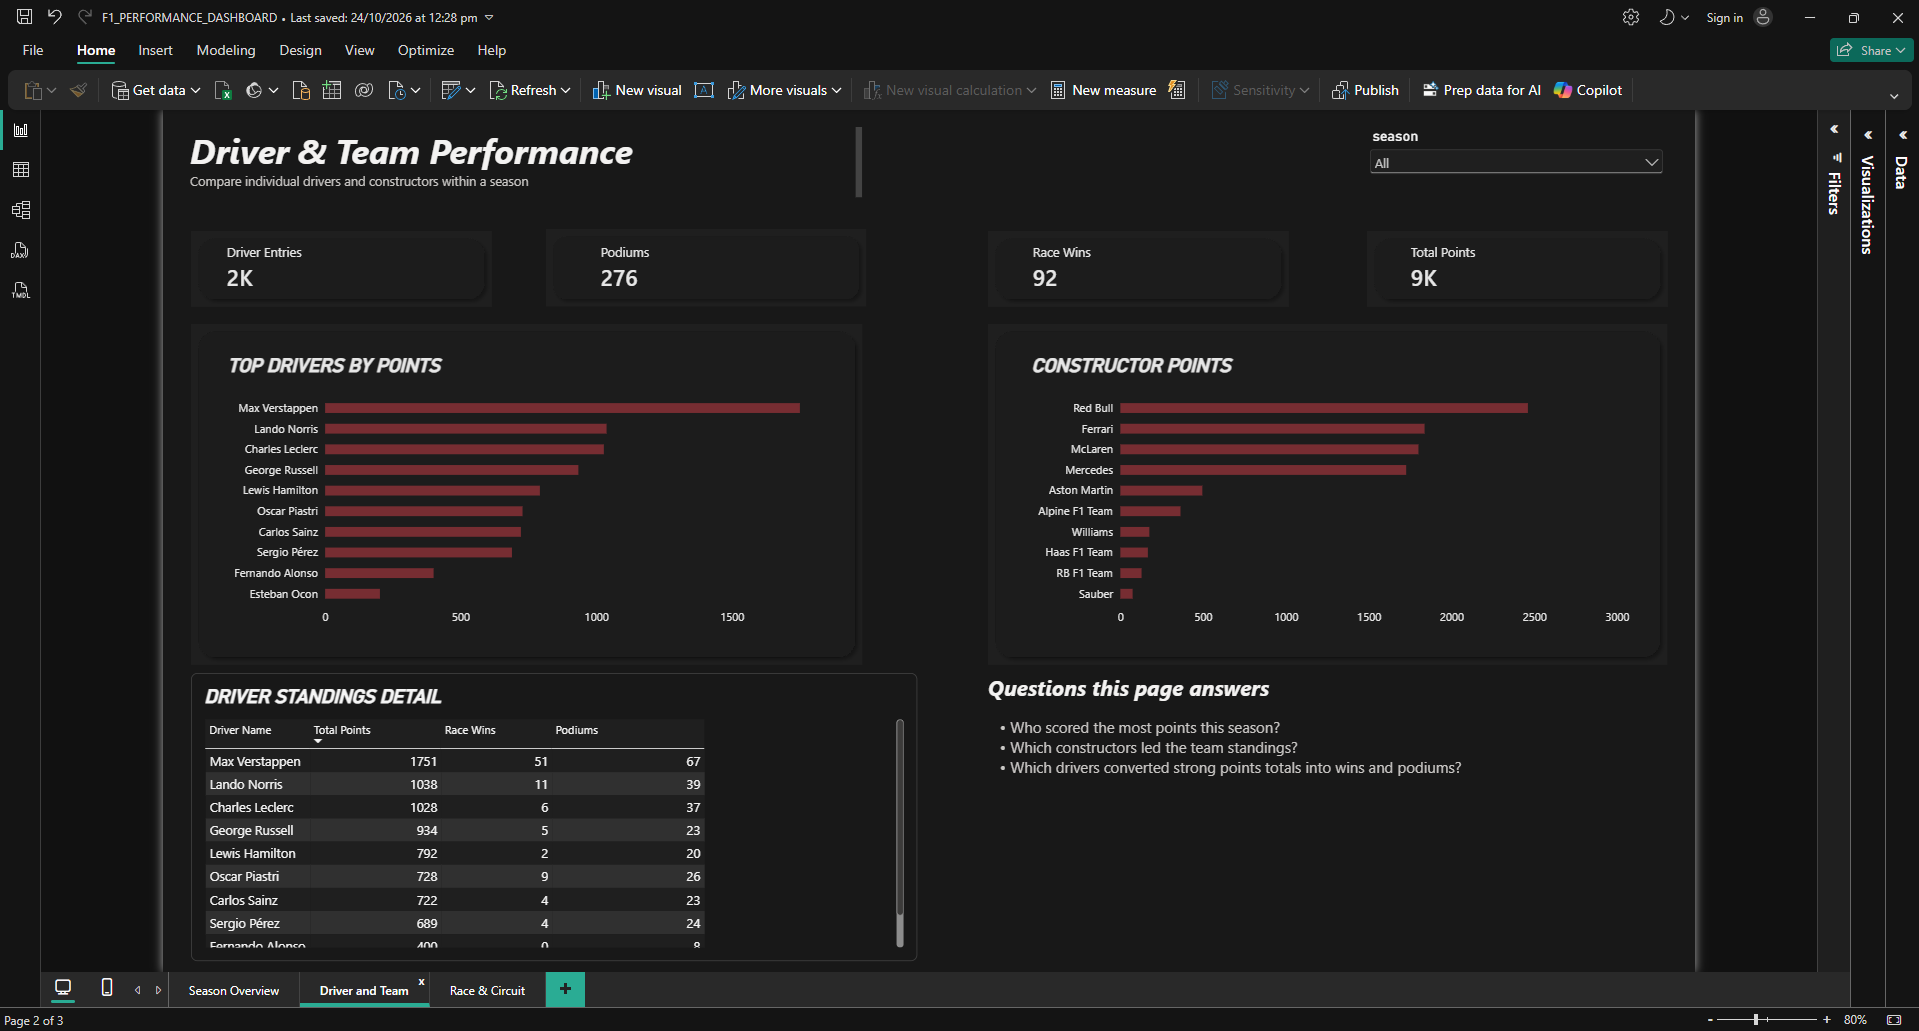

The dashboard page shown, as its layout file describes it:
{"tool":"powerbi","page":{"name":"Driver and Team","canvas":[1920,1080],"ordinal":1},"visuals":[{"type":"group","id":"g1","title":"Background","box":[35,149.5,1850.3,545.4],"z":0},{"type":"shape","box":[35,152,377,94.7],"z":0,"group":"g1"},{"type":"textbox","box":[33.7,21.5,841.6,101],"z":1},{"type":"slicer","fields":{"Values":[" clean_races.season"]},"box":[1506.9,21.5,377.1,101],"z":2},{"type":"cardVisual","fields":{"Data":[" fact_race_results.Driver Entries"]},"box":[64.3,165.7,298.6,65.7],"z":3},{"type":"cardVisual","fields":{"Data":[" fact_race_results.Podiums"]},"box":[531.9,165.6,298.6,65.7],"z":4},{"type":"cardVisual","fields":{"Data":[" fact_race_results.Race Wins"]},"box":[1073.3,165.6,298.6,65.7],"z":5},{"type":"cardVisual","fields":{"Data":[" fact_race_results.Total Points"]},"box":[1547.3,165.6,298.6,65.7],"z":6},{"type":"barChart","title":"TOP DRIVERS BY POINTS","fields":{"Category":[" clean_drivers.driver_name"],"Y":[" fact_race_results.Total Points"]},"box":[64.6,292.2,781.4,374.3],"z":7},{"type":"barChart","title":"CONSTRUCTOR POINTS","fields":{"Category":["clean_constructors.constructor_name"],"Y":[" fact_race_results.Total Points"]},"box":[1072.7,291.8,781.4,374.3],"z":8},{"type":"tableEx","title":"DRIVER STANDINGS DETAIL","fields":{"Values":[" clean_drivers.driver_name"," fact_race_results.Total Points"," fact_race_results.Race Wins"," fact_race_results.Podiums"]},"box":[34.6,705,909.5,360.8],"z":9},{"type":"textbox","box":[1034,705,850.1,360.8],"z":10},{"type":"shape","box":[480.4,149.5,401.3,97],"z":1000,"group":"g1"},{"type":"shape","box":[1033.6,152,377,94.7],"z":2000,"group":"g1"},{"type":"shape","box":[1507.9,152,377,94.7],"z":3000,"group":"g1"},{"type":"shape","box":[35,268,841.4,426.9],"z":4000,"group":"g1"},{"type":"shape","box":[1033.6,268,851.4,426.9],"z":5000,"group":"g1"}]}

Visuals, with their boxes on the page's 1920x1080 design canvas (x1, y1, x2, y2). These are canvas units, not pixel positions in the 1919x1031 screenshot, which may show the page scaled, cropped or inside an application window:
"Background" group: detection(35, 150, 1885, 695)
shape: detection(35, 152, 412, 247)
textbox: detection(34, 22, 875, 122)
slicer -  clean_races.season: detection(1507, 22, 1884, 122)
cardVisual -  fact_race_results.Driver Entries: detection(64, 166, 363, 231)
cardVisual -  fact_race_results.Podiums: detection(532, 166, 830, 231)
cardVisual -  fact_race_results.Race Wins: detection(1073, 166, 1372, 231)
cardVisual -  fact_race_results.Total Points: detection(1547, 166, 1846, 231)
"TOP DRIVERS BY POINTS" barChart: detection(65, 292, 846, 666)
"CONSTRUCTOR POINTS" barChart: detection(1073, 292, 1854, 666)
"DRIVER STANDINGS DETAIL" tableEx: detection(35, 705, 944, 1066)
textbox: detection(1034, 705, 1884, 1066)
shape: detection(480, 150, 882, 246)
shape: detection(1034, 152, 1411, 247)
shape: detection(1508, 152, 1885, 247)
shape: detection(35, 268, 876, 695)
shape: detection(1034, 268, 1885, 695)
